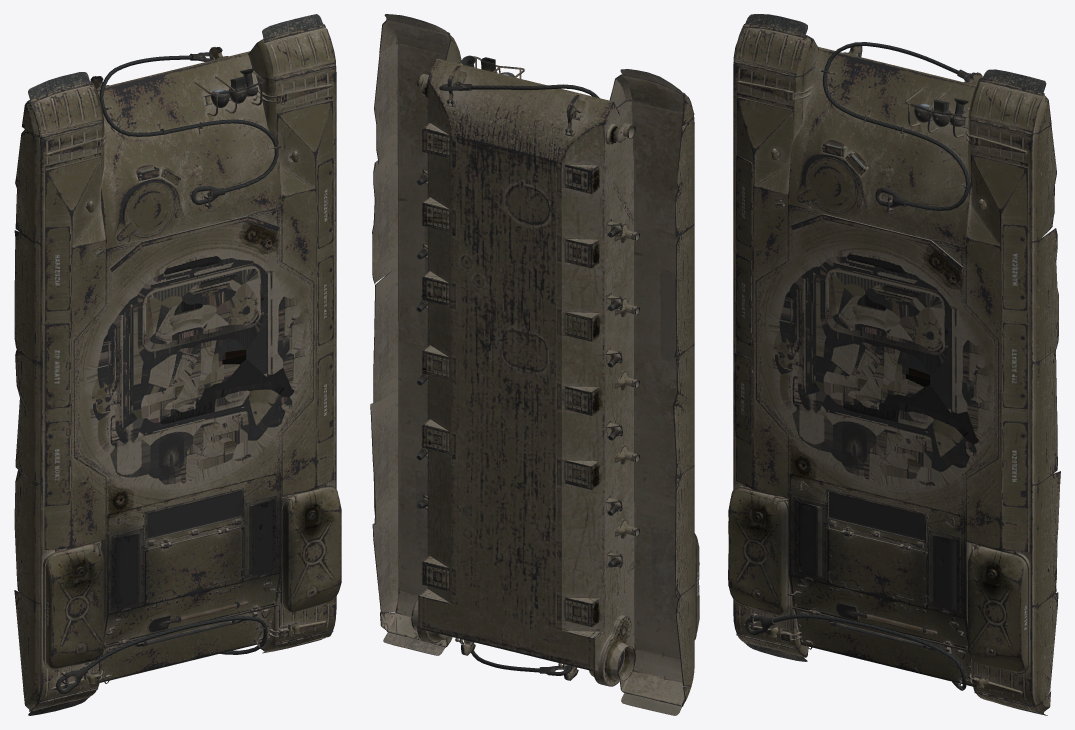
The model's file is Hull.glb.
3 views of the same model, side by side, from view 1: azimuth 30°, elevation 25°; view 2: azimuth 150°, elevation 25°; view 3: azimuth 330°, elevation 25° (orthographic).
Parts seen in each view (by area): view 1: set_0_group_0; view 2: set_0_group_0; view 3: set_0_group_0.
Boxes of the visible parts, box(x1,y1,x2,y2) form: set_0_group_0: box(14, 14, 341, 715); set_0_group_0: box(370, 14, 699, 715); set_0_group_0: box(728, 14, 1060, 715).
Size of the model in its own units: 3.48 by 6.87 by 0.9753.
1 material, 1 textured.
